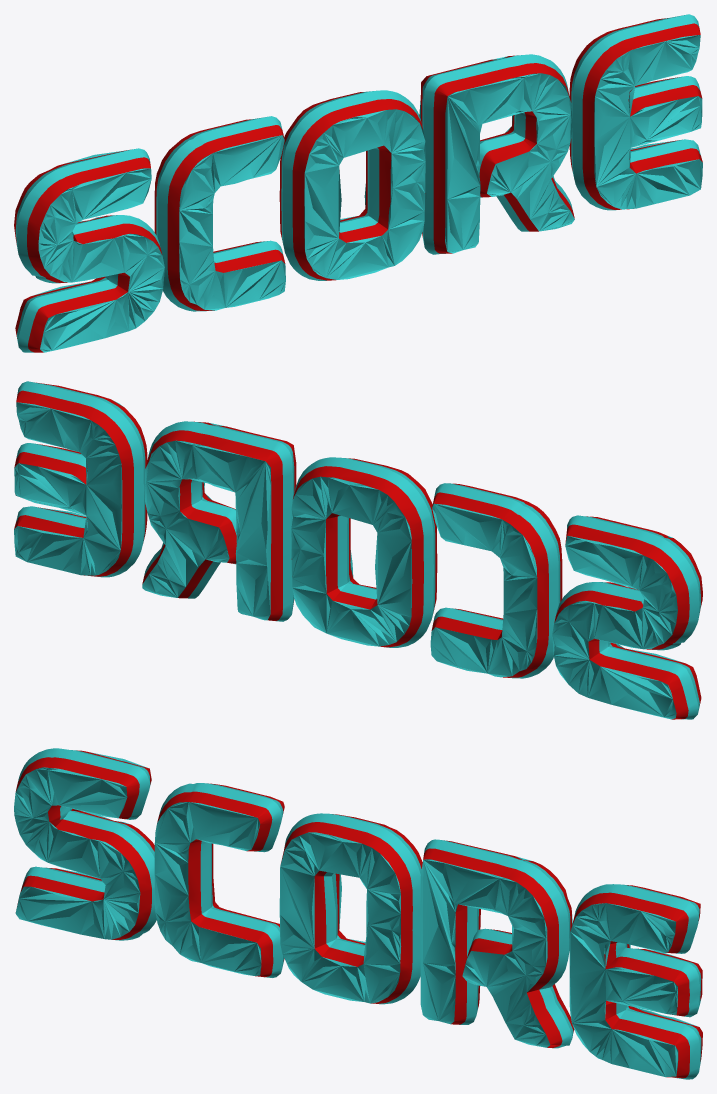
The model's file is TextScore.fbx.
3 renders of one model, top to bottom at view 1: azimuth 30°, elevation 25°; view 2: azimuth 150°, elevation 25°; view 3: azimuth 330°, elevation 25°, orthographic.
Parts seen in each view (by area): view 1: TextScore; view 2: TextScore; view 3: TextScore.
Boxes of the visible parts, bbox=[...] form: TextScore: bbox=[14, 14, 702, 352]; TextScore: bbox=[14, 381, 702, 719]; TextScore: bbox=[14, 748, 702, 1079].
Size of the model in its own units: 3183 by 801 by 261.
